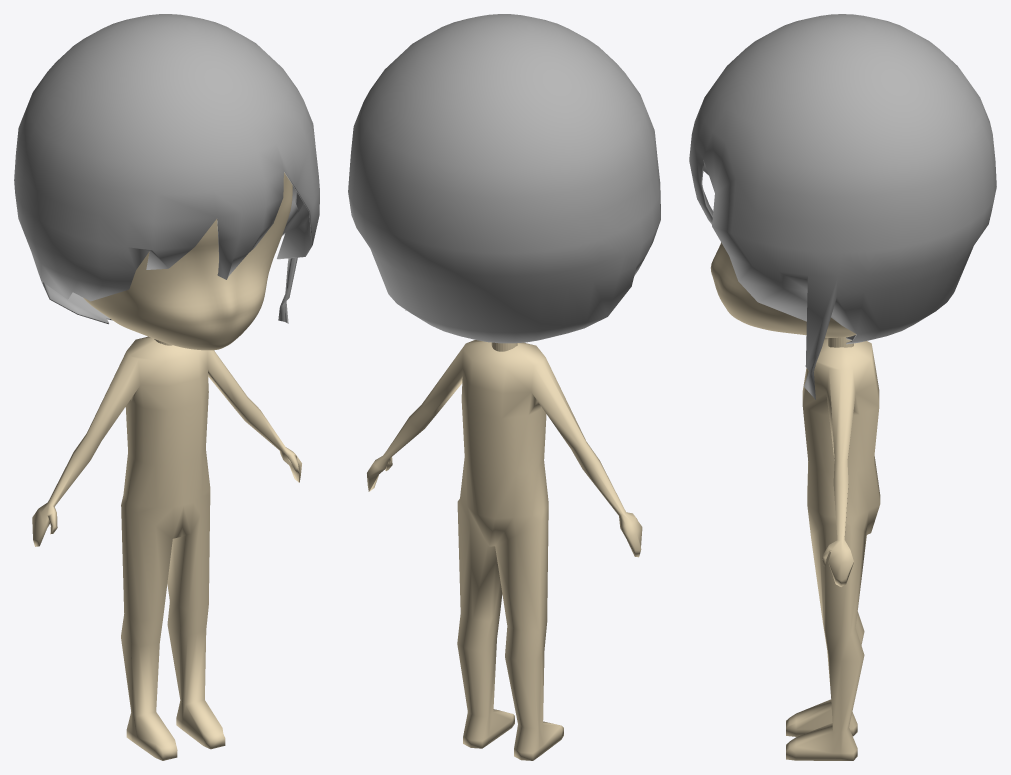
The model's file is AvatarSpades.fbx.
3 views of the same model, side by side, from view 1: azimuth 30°, elevation 25°; view 2: azimuth 150°, elevation 25°; view 3: azimuth 270°, elevation 25° (orthographic). The views are drawn at different scales.
Visible parts, largest first — view 1: Sphere.001, Cube, Sphere; view 2: Sphere.001, Cube; view 3: Sphere.001, Cube, Sphere.
Boxes of the visible parts, box(x1,y1,x2,y2) form: Sphere.001: box(14, 14, 319, 324); Cube: box(32, 336, 301, 760); Sphere: box(83, 172, 292, 350); Sphere.001: box(348, 14, 660, 343); Cube: box(367, 340, 642, 760); Sphere.001: box(689, 14, 996, 399); Cube: box(786, 335, 880, 760); Sphere: box(710, 242, 856, 337).
Size of the model in its own units: 319 by 803 by 312.
